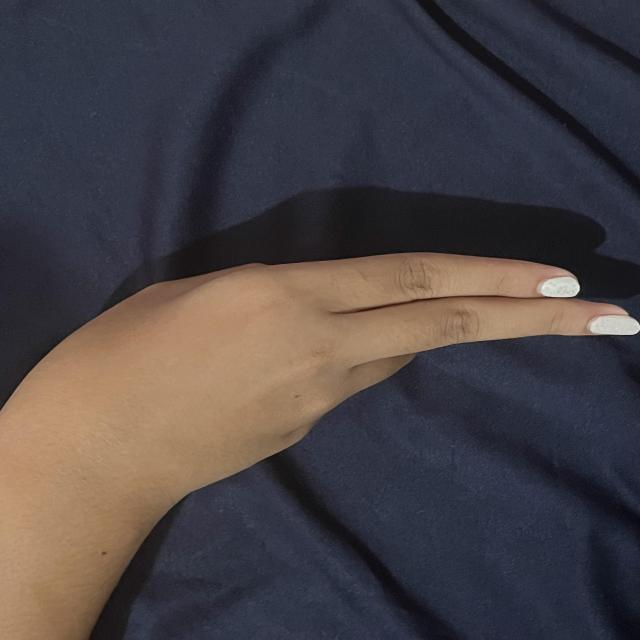H: (84, 251, 633, 489)
